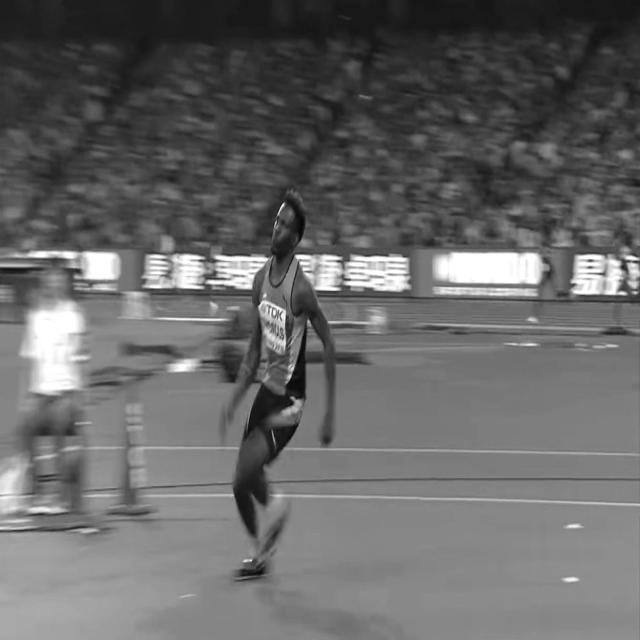run: (220, 188, 338, 582)
